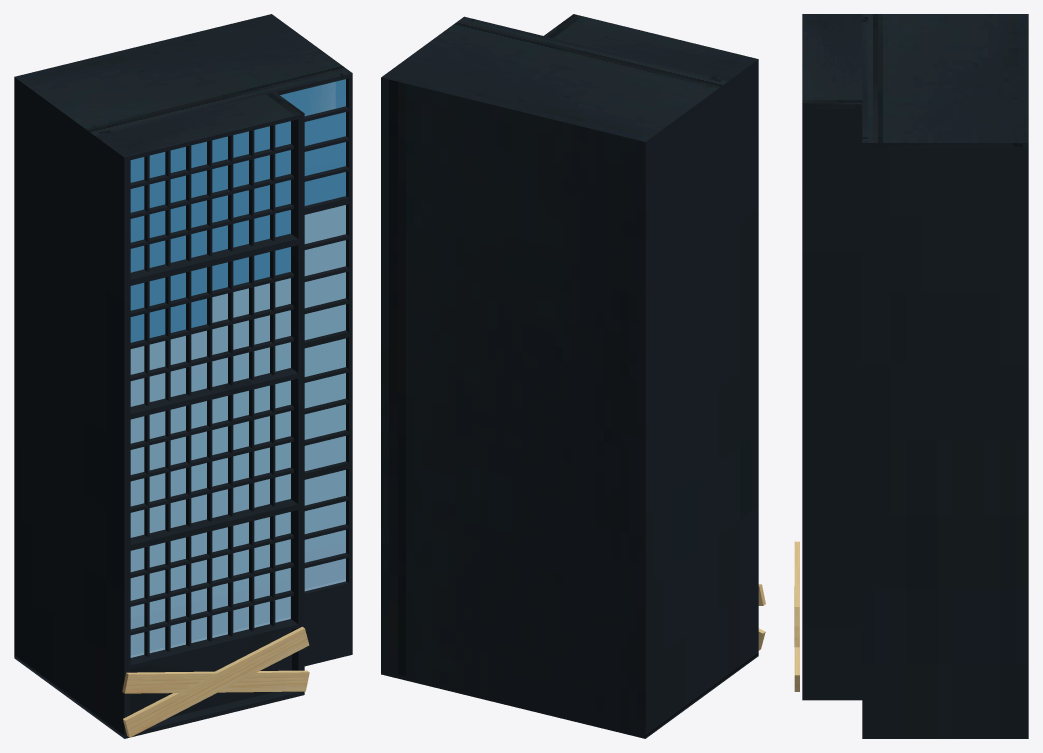
File: building_color.obj
3 views of the same model, side by side, from view 1: azimuth 30°, elevation 25°; view 2: azimuth 150°, elevation 25°; view 3: azimuth 270°, elevation 25° (orthographic). The views are drawn at different scales.
Visible parts, largest first — view 1: pCube1, pCube4, pCube3; view 2: pCube1; view 3: pCube1, pCube3.
Part boxes in pixels (x1,y1,x2,y2): pCube1: (14,14,352,738); pCube4: (123,626,309,737); pCube3: (122,670,309,693); pCube1: (381,14,758,738); pCube1: (802,14,1028,738); pCube3: (794,541,799,691).
Size of the model in its own units: 5.24 by 11.16 by 3.97.
